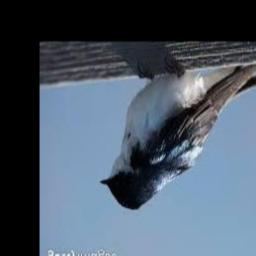Swallow: (100, 62, 256, 210)
